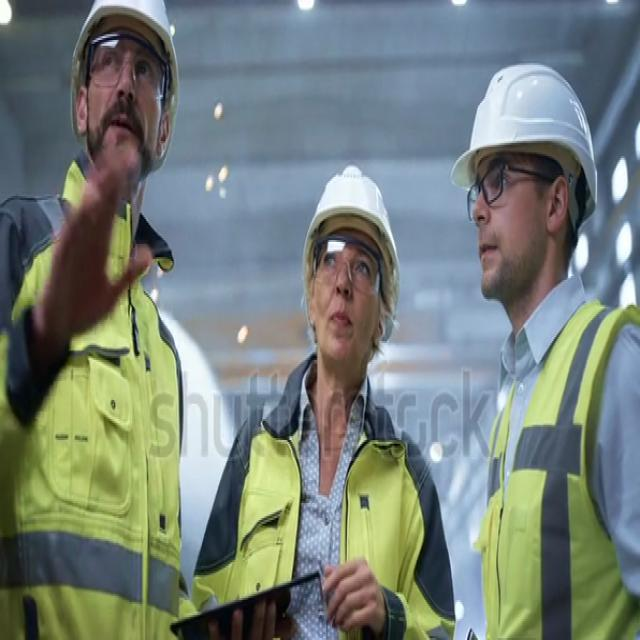Glasses: (84, 28, 166, 108), (465, 158, 555, 221), (317, 237, 383, 303)
Helmet: (450, 57, 594, 194), (304, 163, 402, 289), (74, 0, 182, 83)
Vest: (1, 192, 184, 640), (192, 365, 454, 640), (478, 276, 639, 640)
